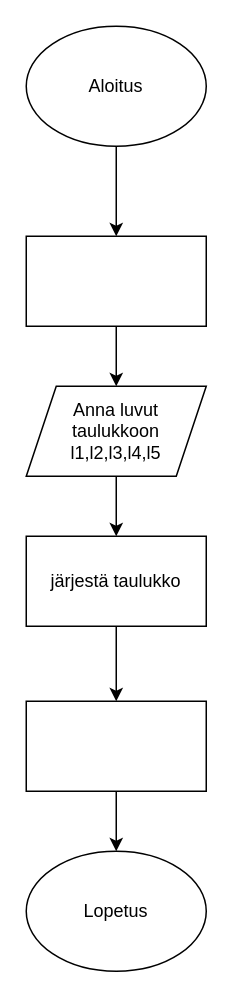
Some shapes in this 233 by 998 pixel diagram are drawn without their labels. The centre of each missing label's shape, as x and y in pixels:
"tulosta l5" belongs at (115,745).
"var l1,l2,l3,l4,l5" belongs at (115,280).
